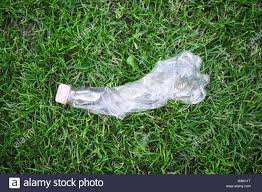plastic_bottle: (56, 51, 210, 120)
